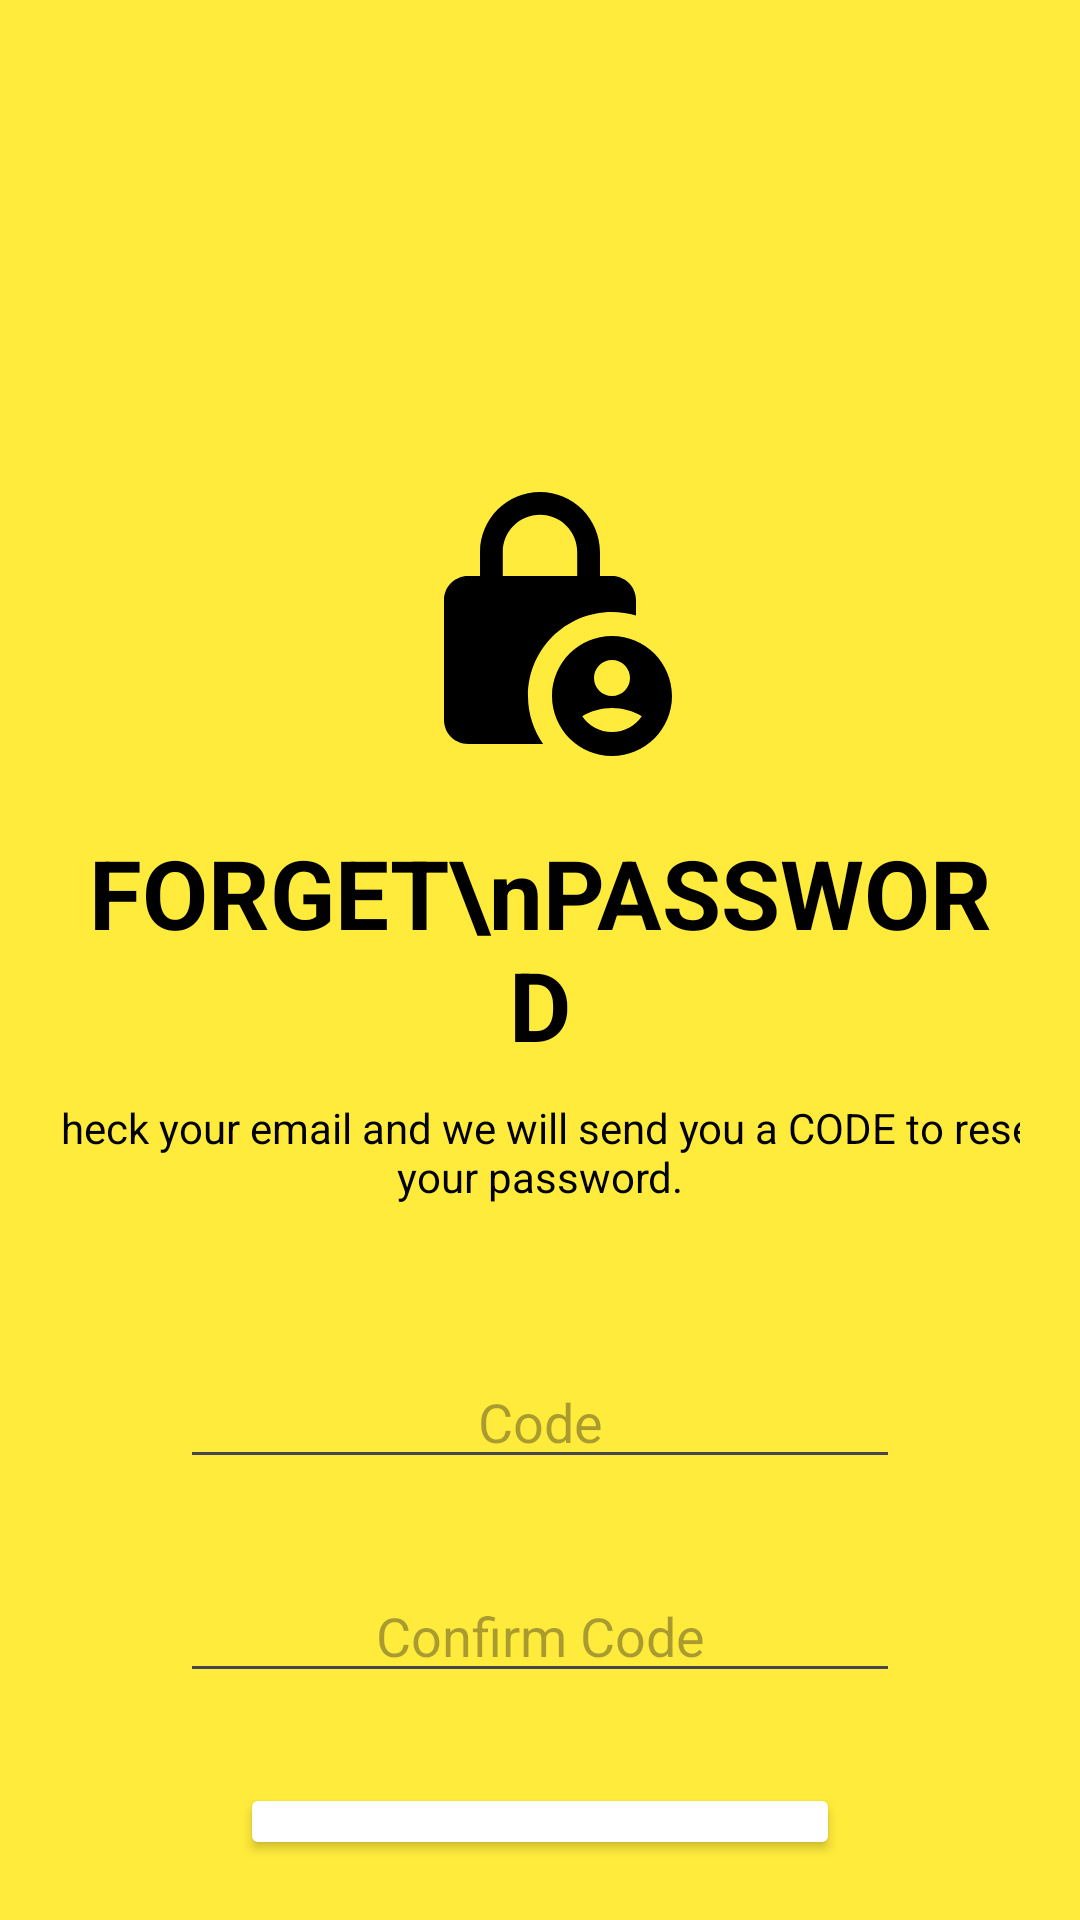

Icons on this 1080*1920 Android screen, each with its box as (x1, y1, x2, y2):
lock person: (444, 492, 672, 756)
